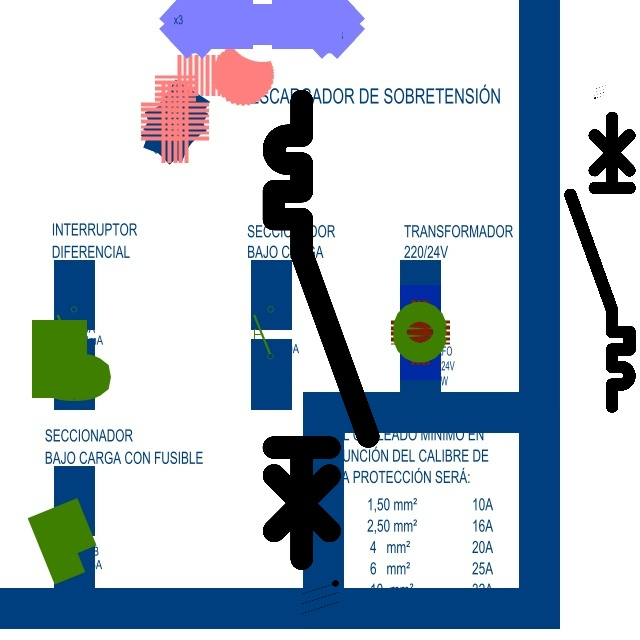interruptor_termomagnetico: (262, 89, 380, 571), (563, 110, 637, 414)
